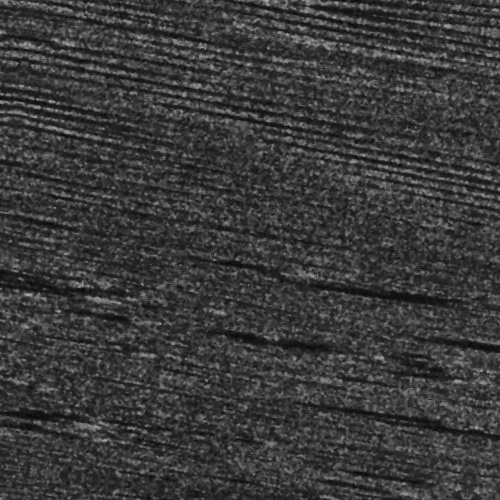object: (345, 329, 418, 340)
shadow: (226, 329, 381, 340), (327, 267, 500, 276), (462, 386, 500, 411), (456, 301, 500, 314), (332, 389, 479, 392)
